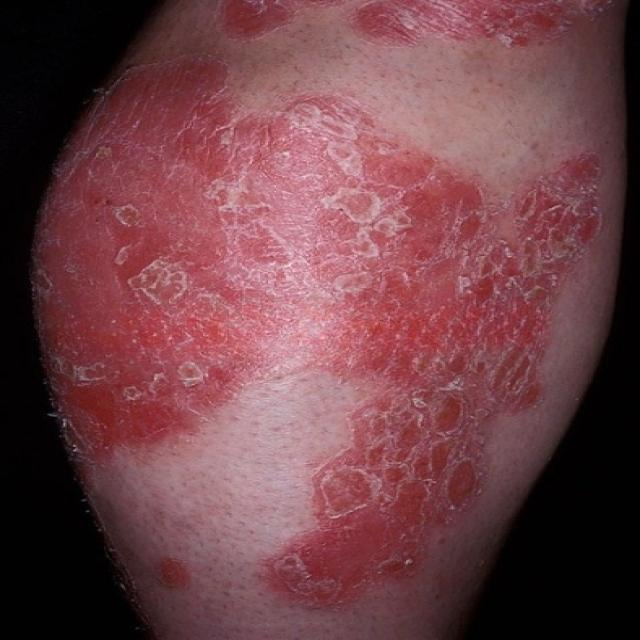Psoriasis Eritrodermica: (34, 0, 625, 639)
